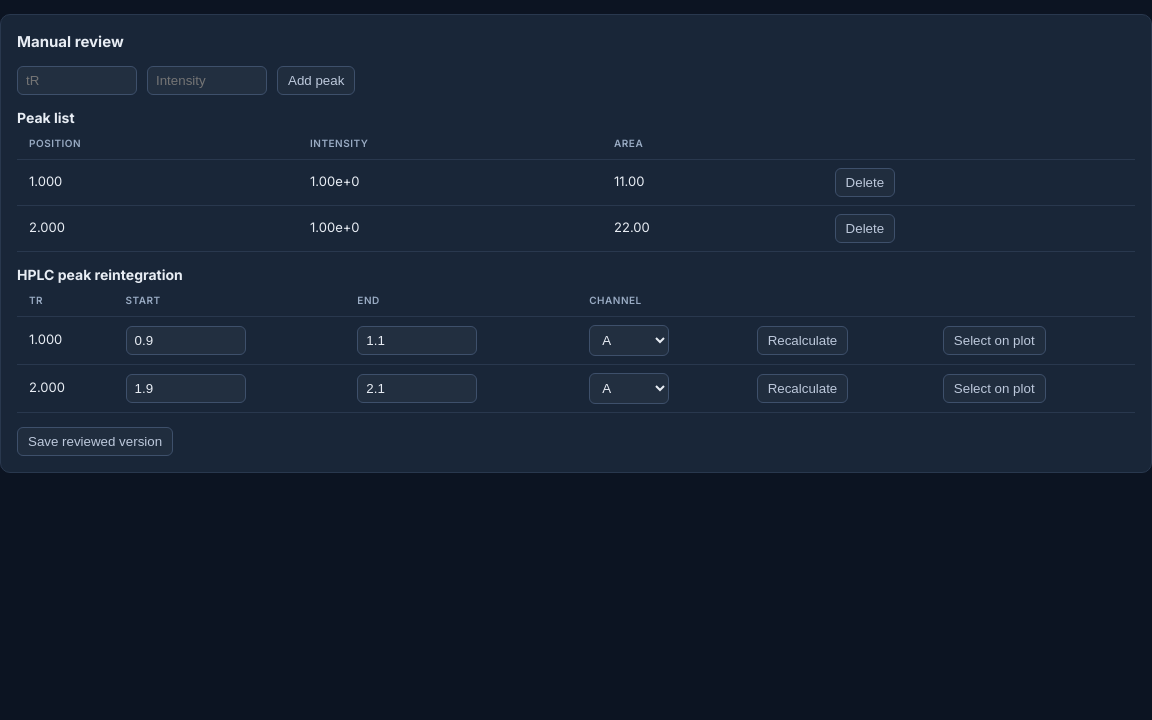
Test: manual recalculation ownership › does not copy a custom window onto an inserted peak at the same position
Replace the text in the 3rd field with "0.7" at (186, 340), box [126,326,246,354]
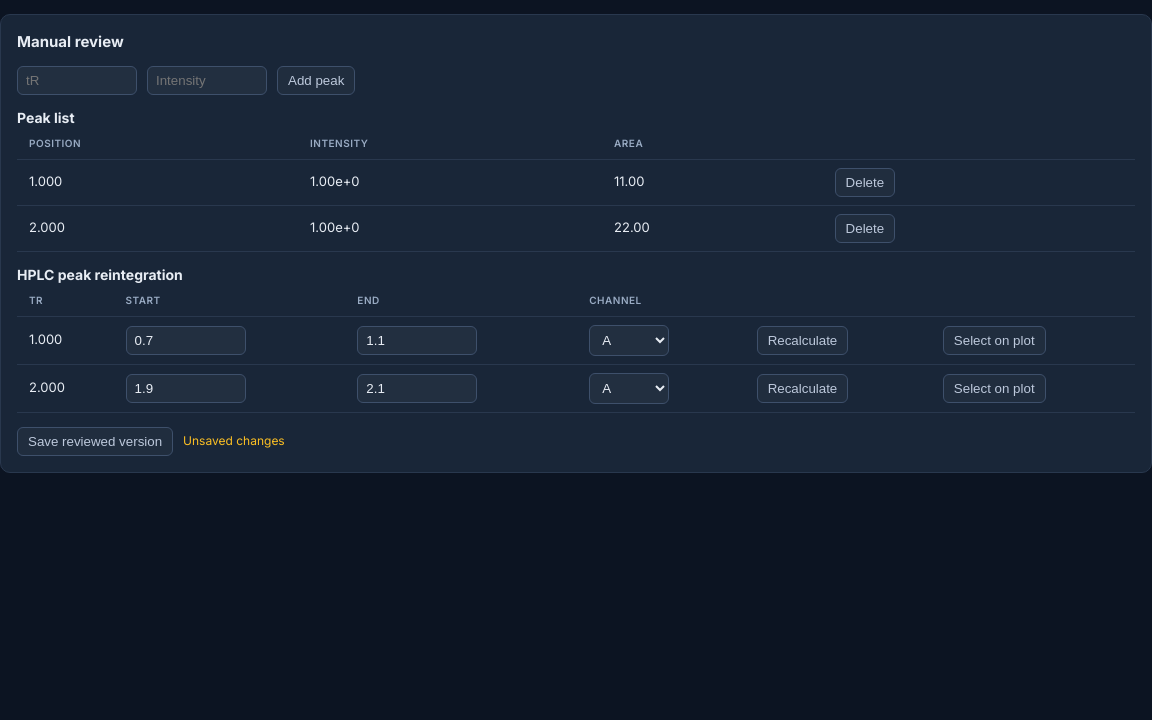
Type "1" into the field named "Position".
click(77, 80); type("1")  # box [17,66,137,94]
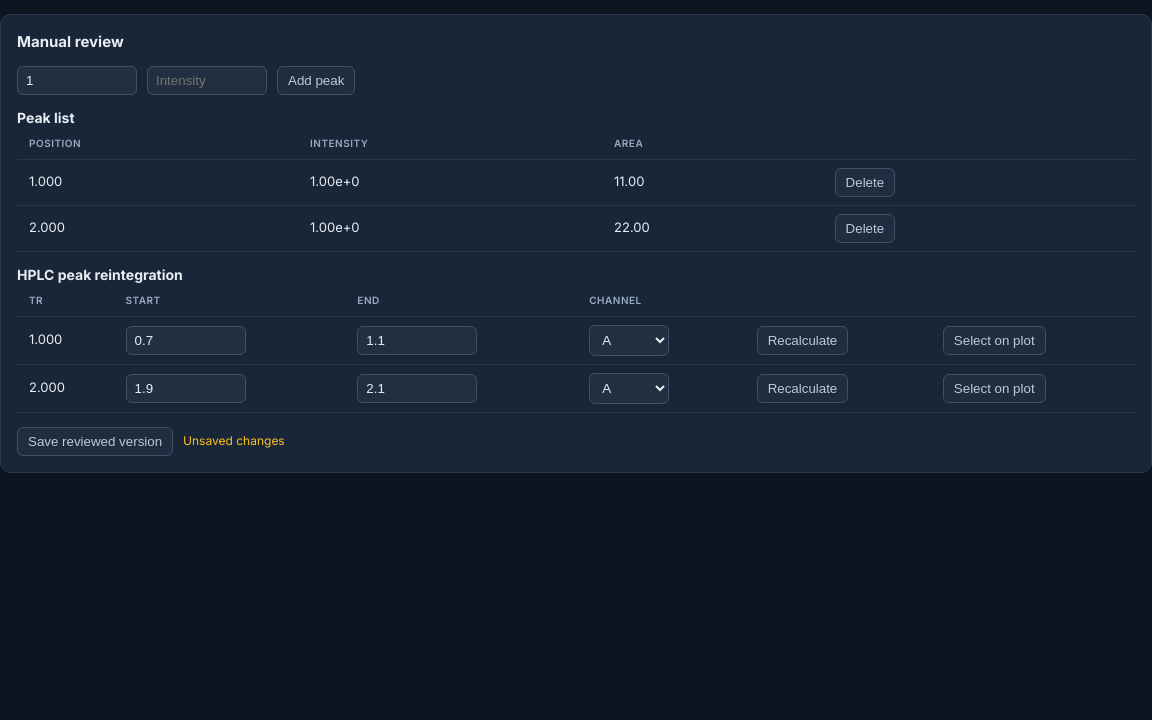
Type "1" into the field labelled "Intensity".
click(207, 80); type("1")  # box [147,66,267,94]
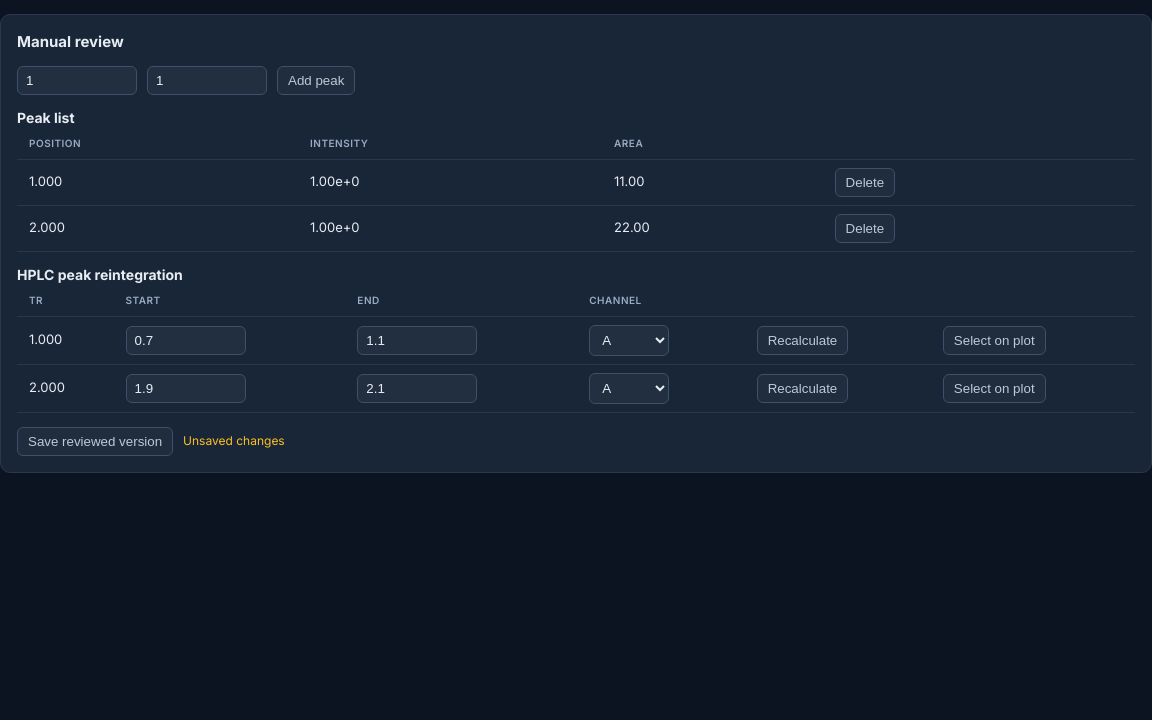
Click the button "Add peak".
click(316, 80)  # box [277,66,355,94]
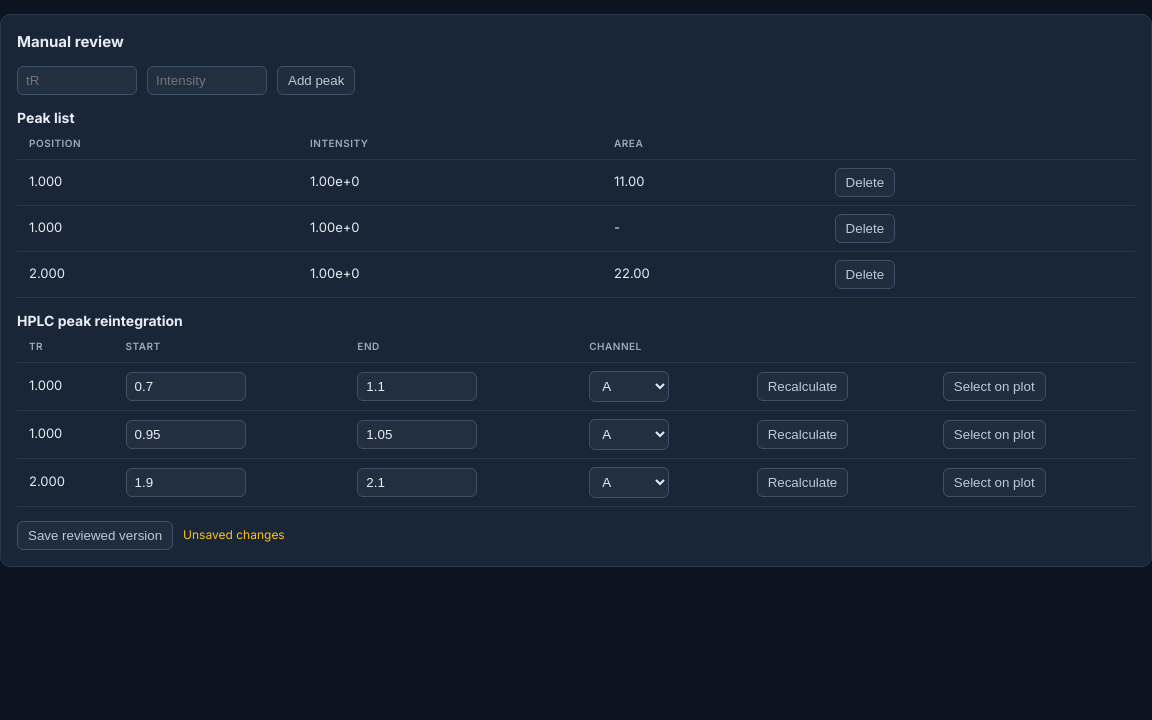
Check: the 5th field holds "0.95", box [126,420,246,448]
